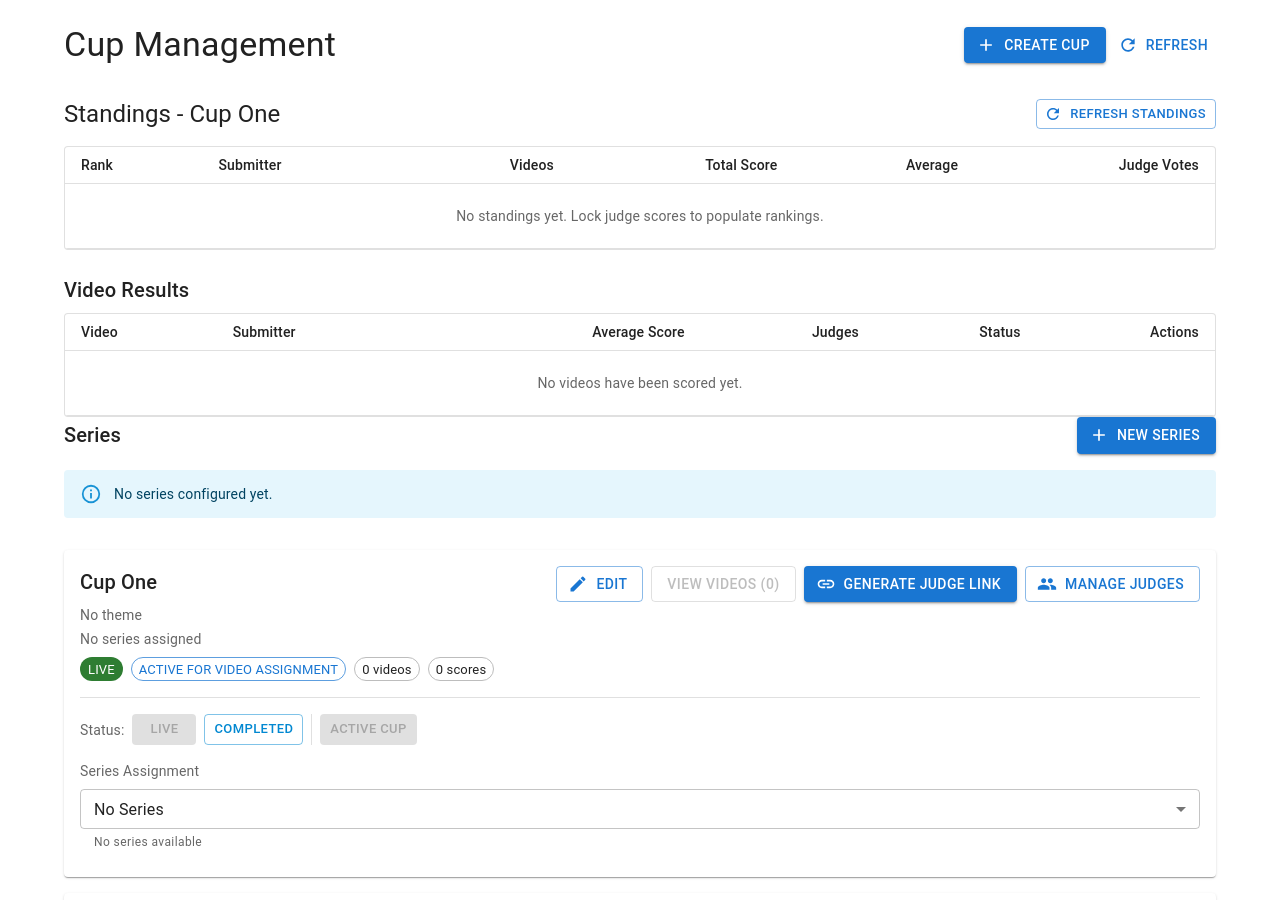
Test case: CupAdmin integration (happy path) › renders cups and generates judge link
Expected: the heading "Standings - Cup One" is shown, [64,98,280,130]
Click the button "Generate Judge Link". click: (910, 584)
box: [804,566,1017,602]
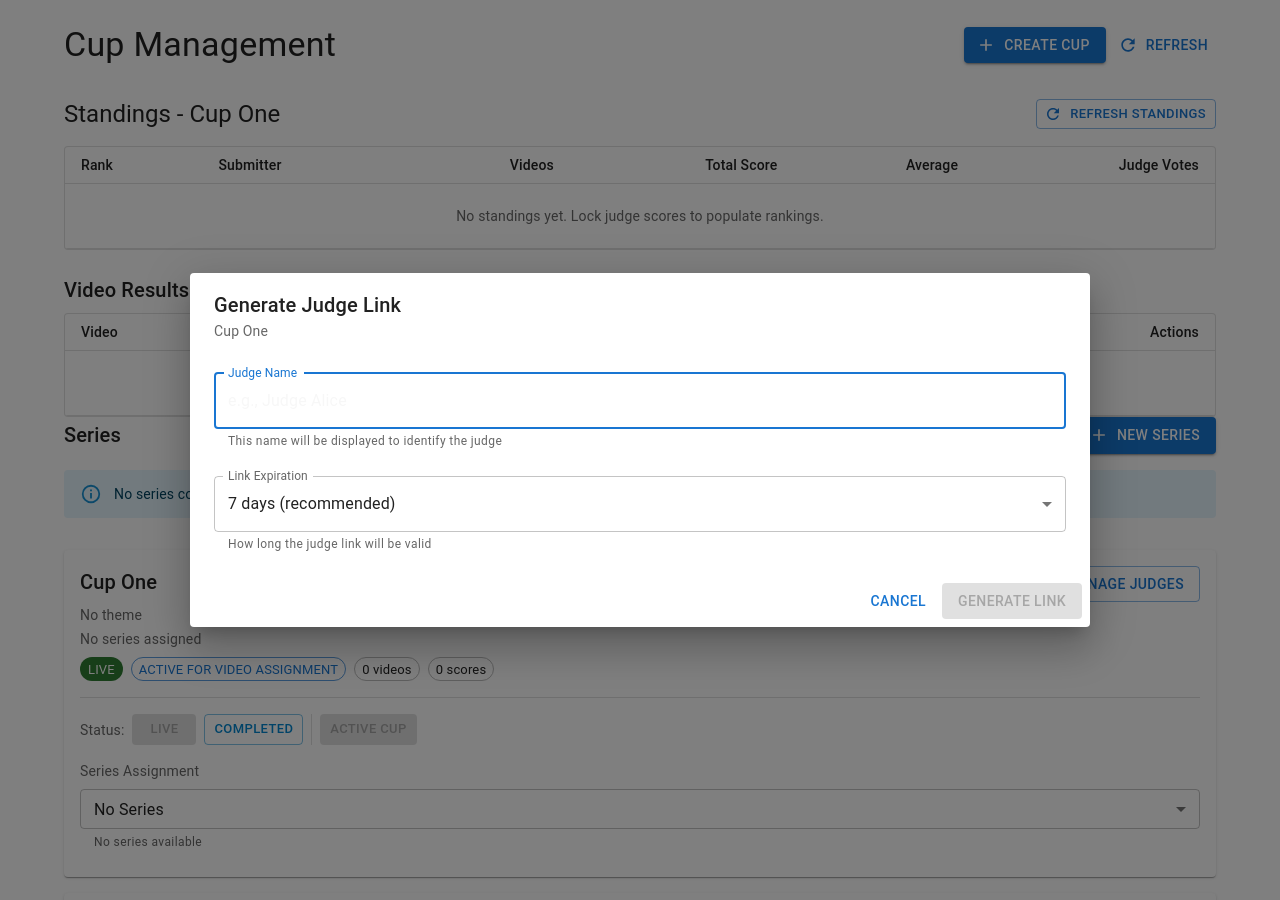
Type "Judge Tester" into the field labelled "Judge Name". click: (640, 401)
box: [214,373,1066,429]
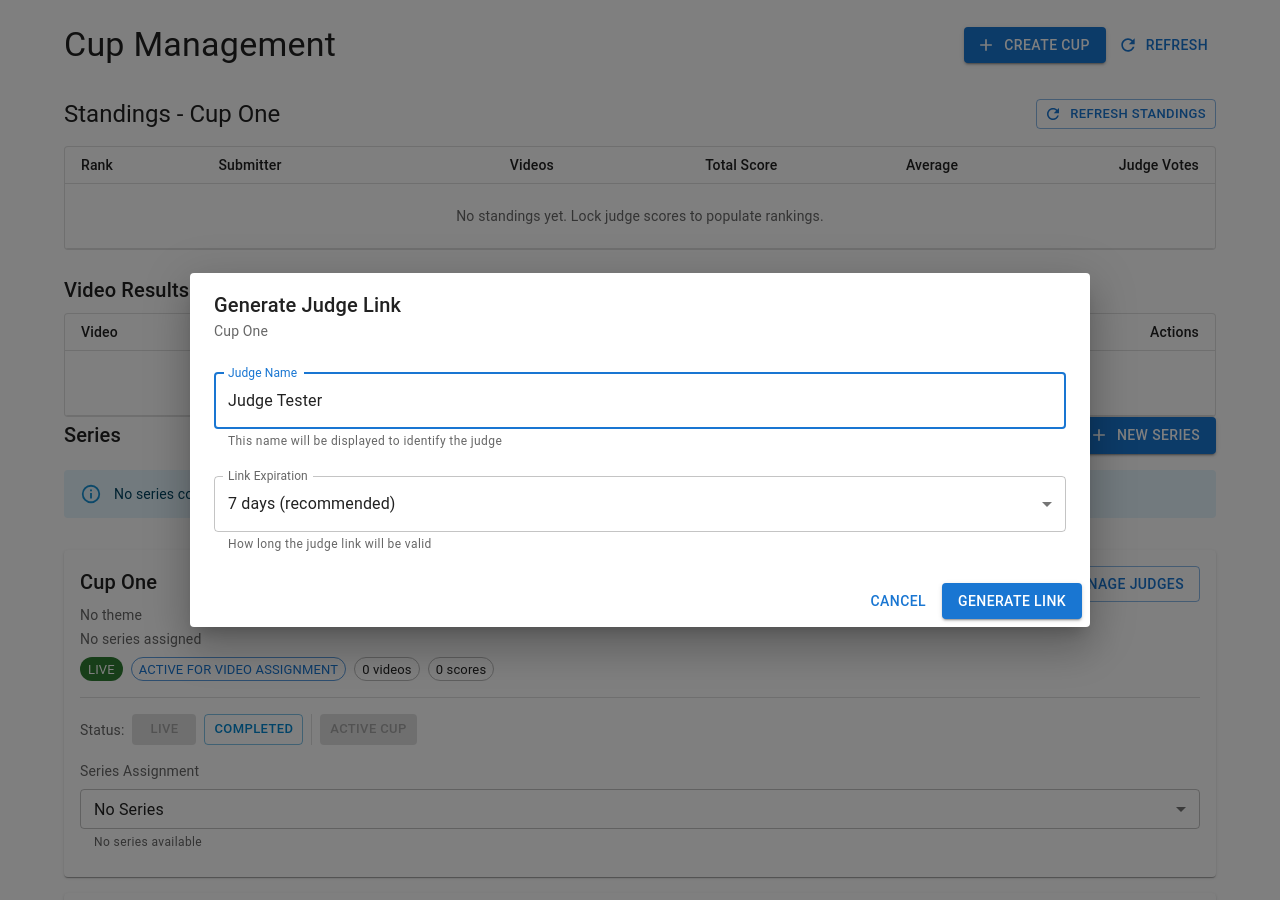
Click the button "Generate Link". click: (1012, 601)
box: [942,583,1082,619]
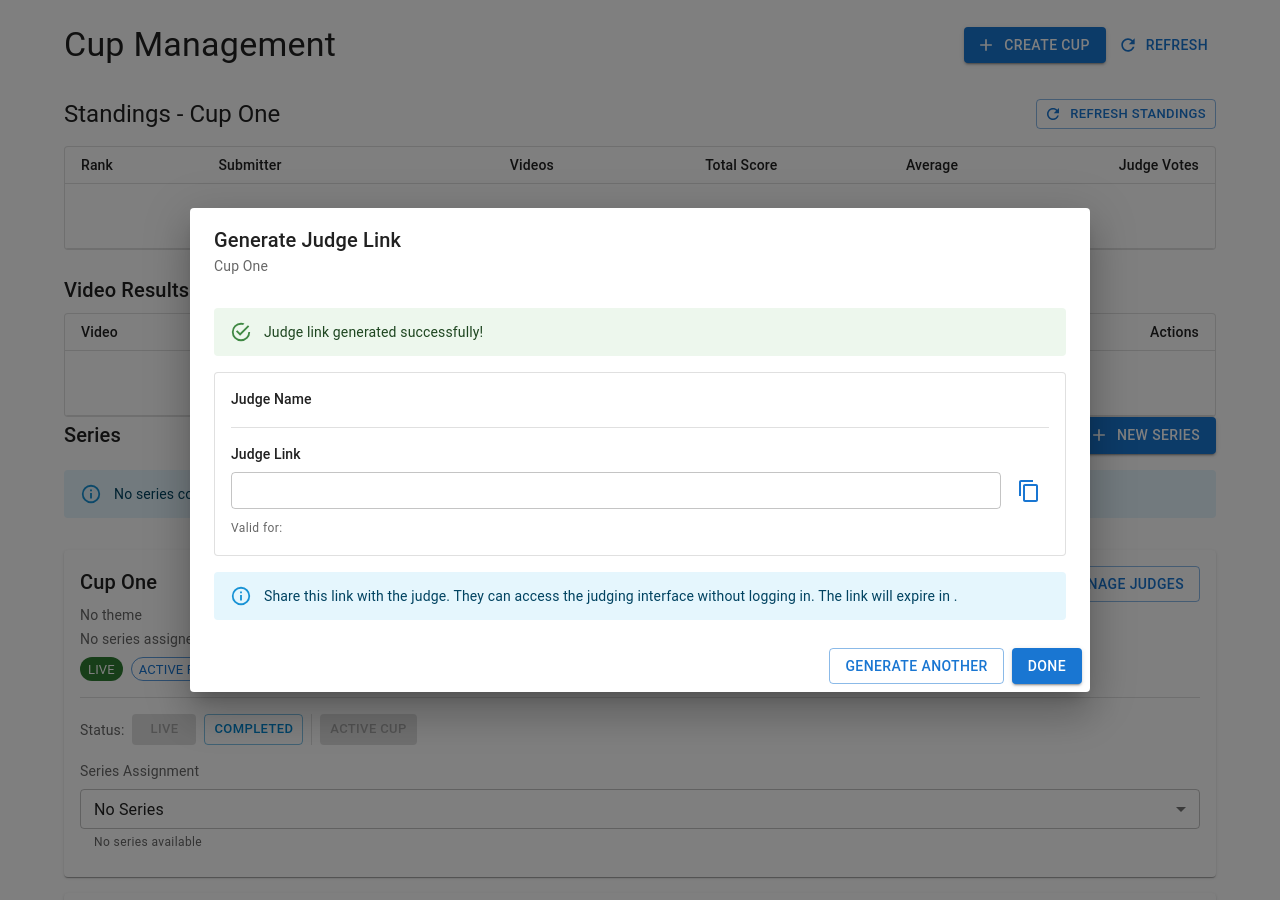
Result: the text "Judge link generated successfully!" is shown at [264,324,483,340]
